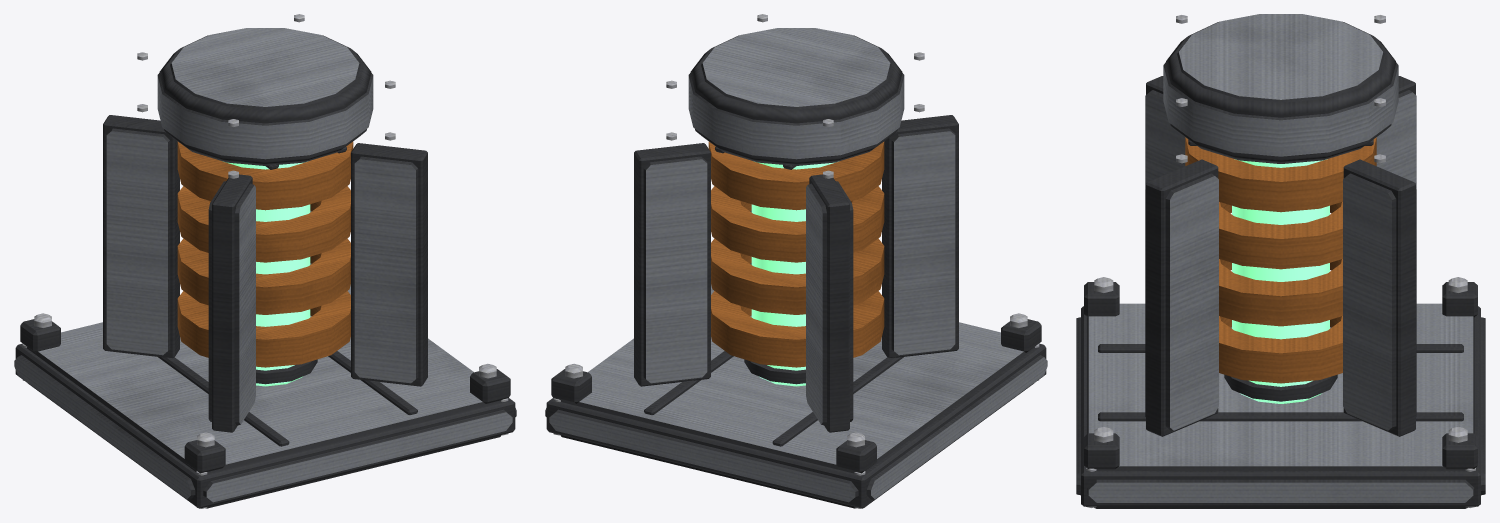
The model's file is R4X_EnergyRegenerator.glb.
The picture shows the model from 3 angles, left to right: view 1: azimuth 30°, elevation 25°; view 2: azimuth 150°, elevation 25°; view 3: azimuth 270°, elevation 25°; orthographic projection. The views are drawn at different scales.
Parts seen in each view (by area): view 1: R4X_EnergyRegenerator_Body; view 2: R4X_EnergyRegenerator_Body; view 3: R4X_EnergyRegenerator_Body.
Part boxes in pixels (<box>): R4X_EnergyRegenerator_Body: <box>14,14,516,508</box>; R4X_EnergyRegenerator_Body: <box>545,14,1047,508</box>; R4X_EnergyRegenerator_Body: <box>1076,14,1485,508</box>.
Bounding box in the file's own units: 0.52 × 0.52 × 0.52.
Materials: 5 (4 with a texture image).
